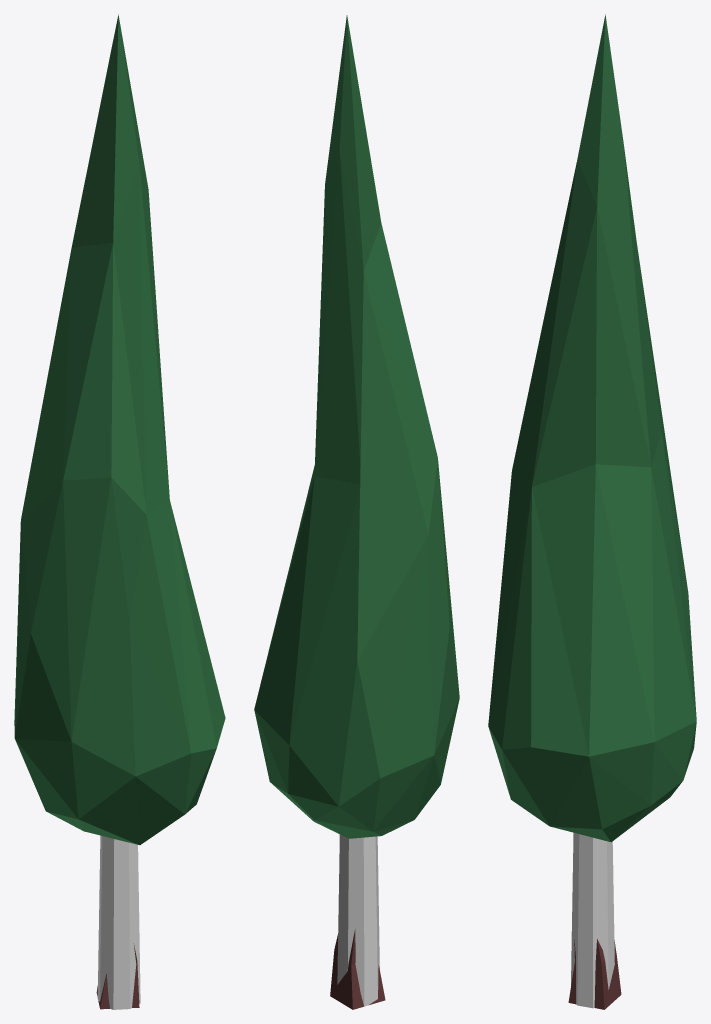
File: floresta_tree_cypress_medium.glb
The picture shows the model from 3 angles, left to right: view 1: azimuth 30°, elevation 25°; view 2: azimuth 150°, elevation 25°; view 3: azimuth 270°, elevation 25°; orthographic projection.
Parts seen in each view (by area): view 1: Cypress middle f, Colisao; view 2: Cypress middle f, Colisao; view 3: Cypress middle f, Colisao.
Part boxes in pixels (x1,y1,x2,y2): Cypress middle f: (14,14,225,1009); Colisao: (97,835,140,1009); Cypress middle f: (254,15,459,1009); Colisao: (337,834,379,1006); Cypress middle f: (488,14,696,1009); Colisao: (571,833,614,1008).
Bounding box in the file's own units: 2.45 × 12.75 × 2.44.
